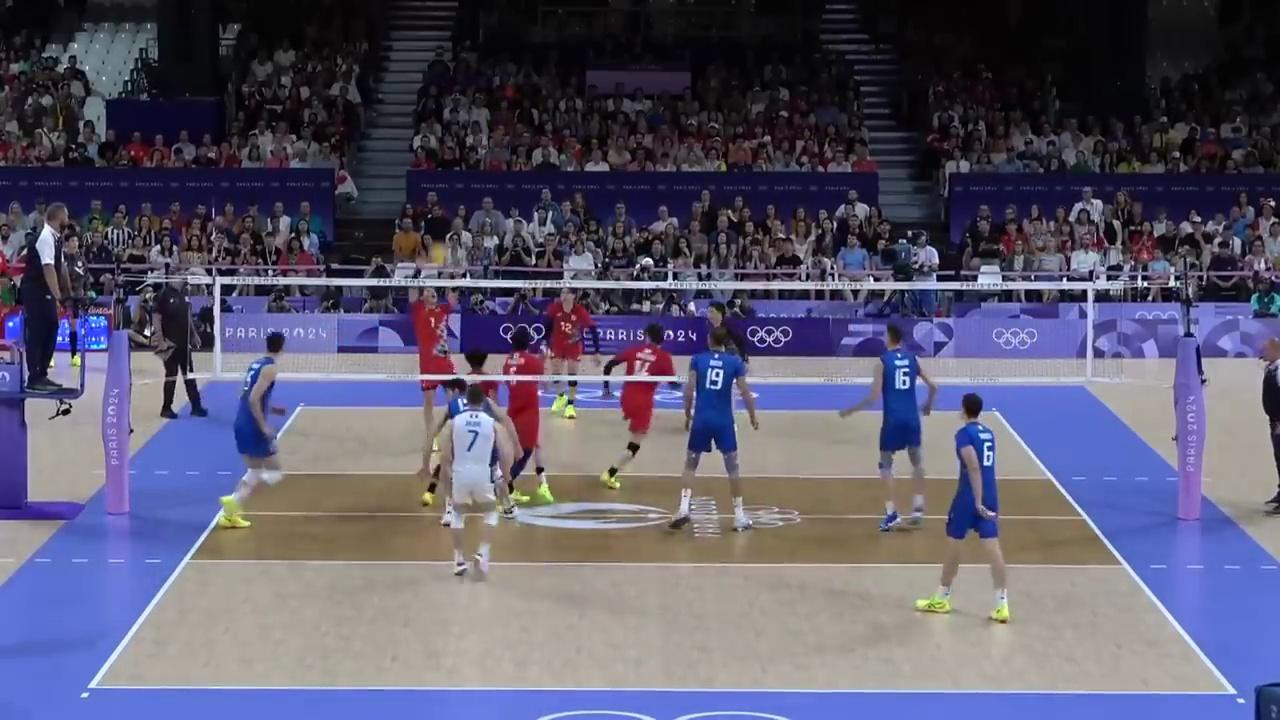ball: (425, 243, 449, 265)
